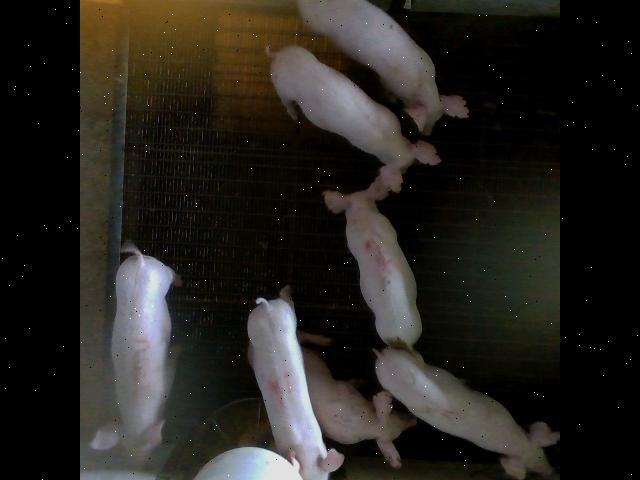pig-3: (91, 240, 178, 458)
pig-4: (248, 296, 344, 480)
pig-5: (324, 165, 421, 346)
